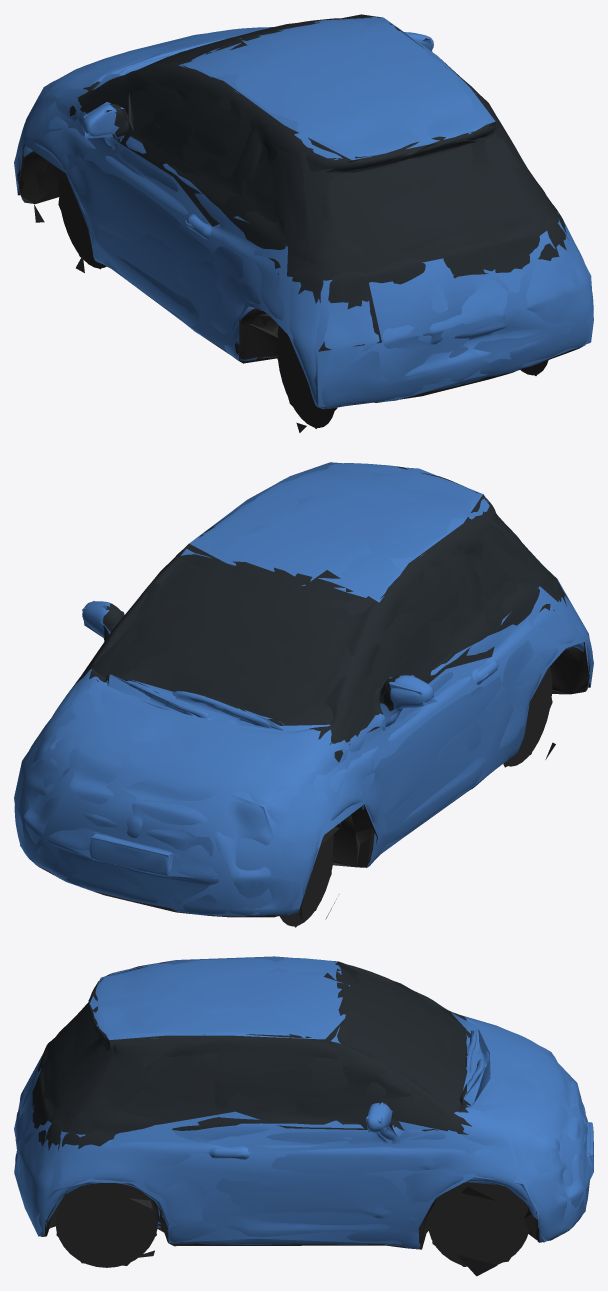
File: fiat-500.glb
The picture shows the model from 3 angles, top to bottom: view 1: azimuth 30°, elevation 25°; view 2: azimuth 150°, elevation 25°; view 3: azimuth 270°, elevation 25°; orthographic projection. The views are drawn at different scales.
Visible parts, largest first — view 1: body, far; view 2: body, far; view 3: body, far.
Boxes of the visible parts, bbox=[...] form: body: bbox=[15, 15, 593, 432]; far: bbox=[14, 14, 593, 428]; body: bbox=[14, 463, 593, 926]; far: bbox=[14, 462, 593, 927]; body: bbox=[15, 957, 593, 1269]; far: bbox=[14, 956, 593, 1276].
Size of the model in its own units: 2.14 by 1.6 by 3.59.
